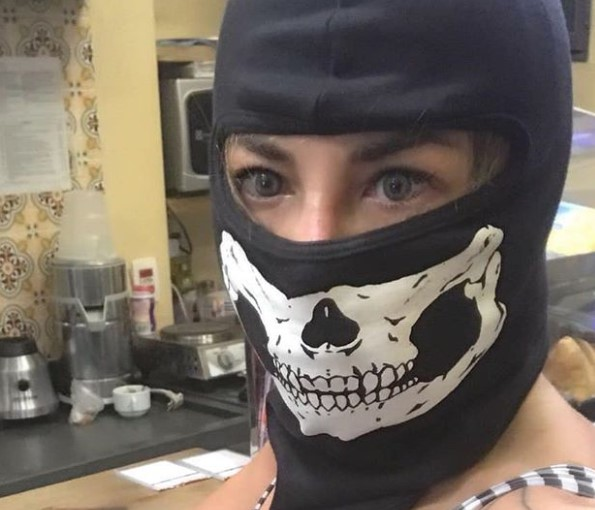face_with_mask: (209, 15, 539, 437)
